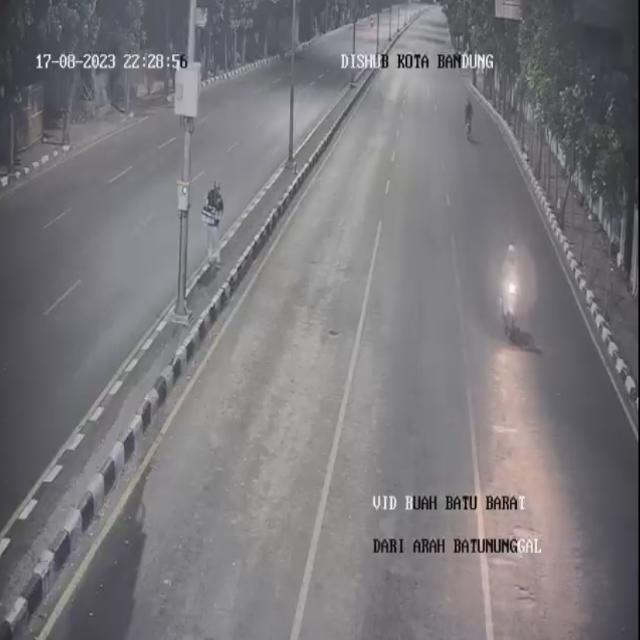motorcycle: (494, 236, 531, 338)
